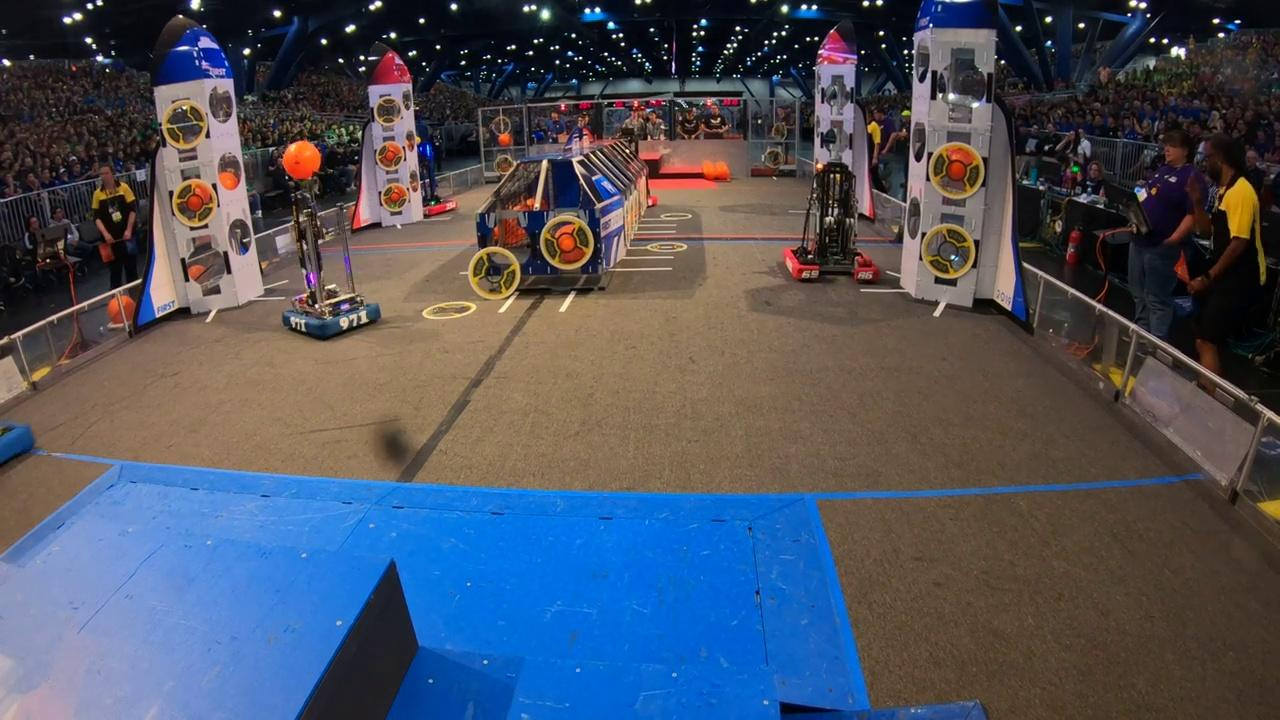robot: (275, 178, 383, 343), (776, 150, 887, 289)
